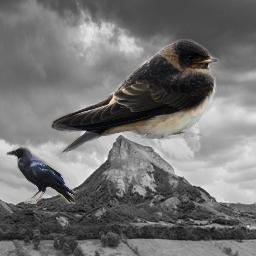Crow: (6, 146, 75, 204)
Swallow: (50, 39, 219, 155)
